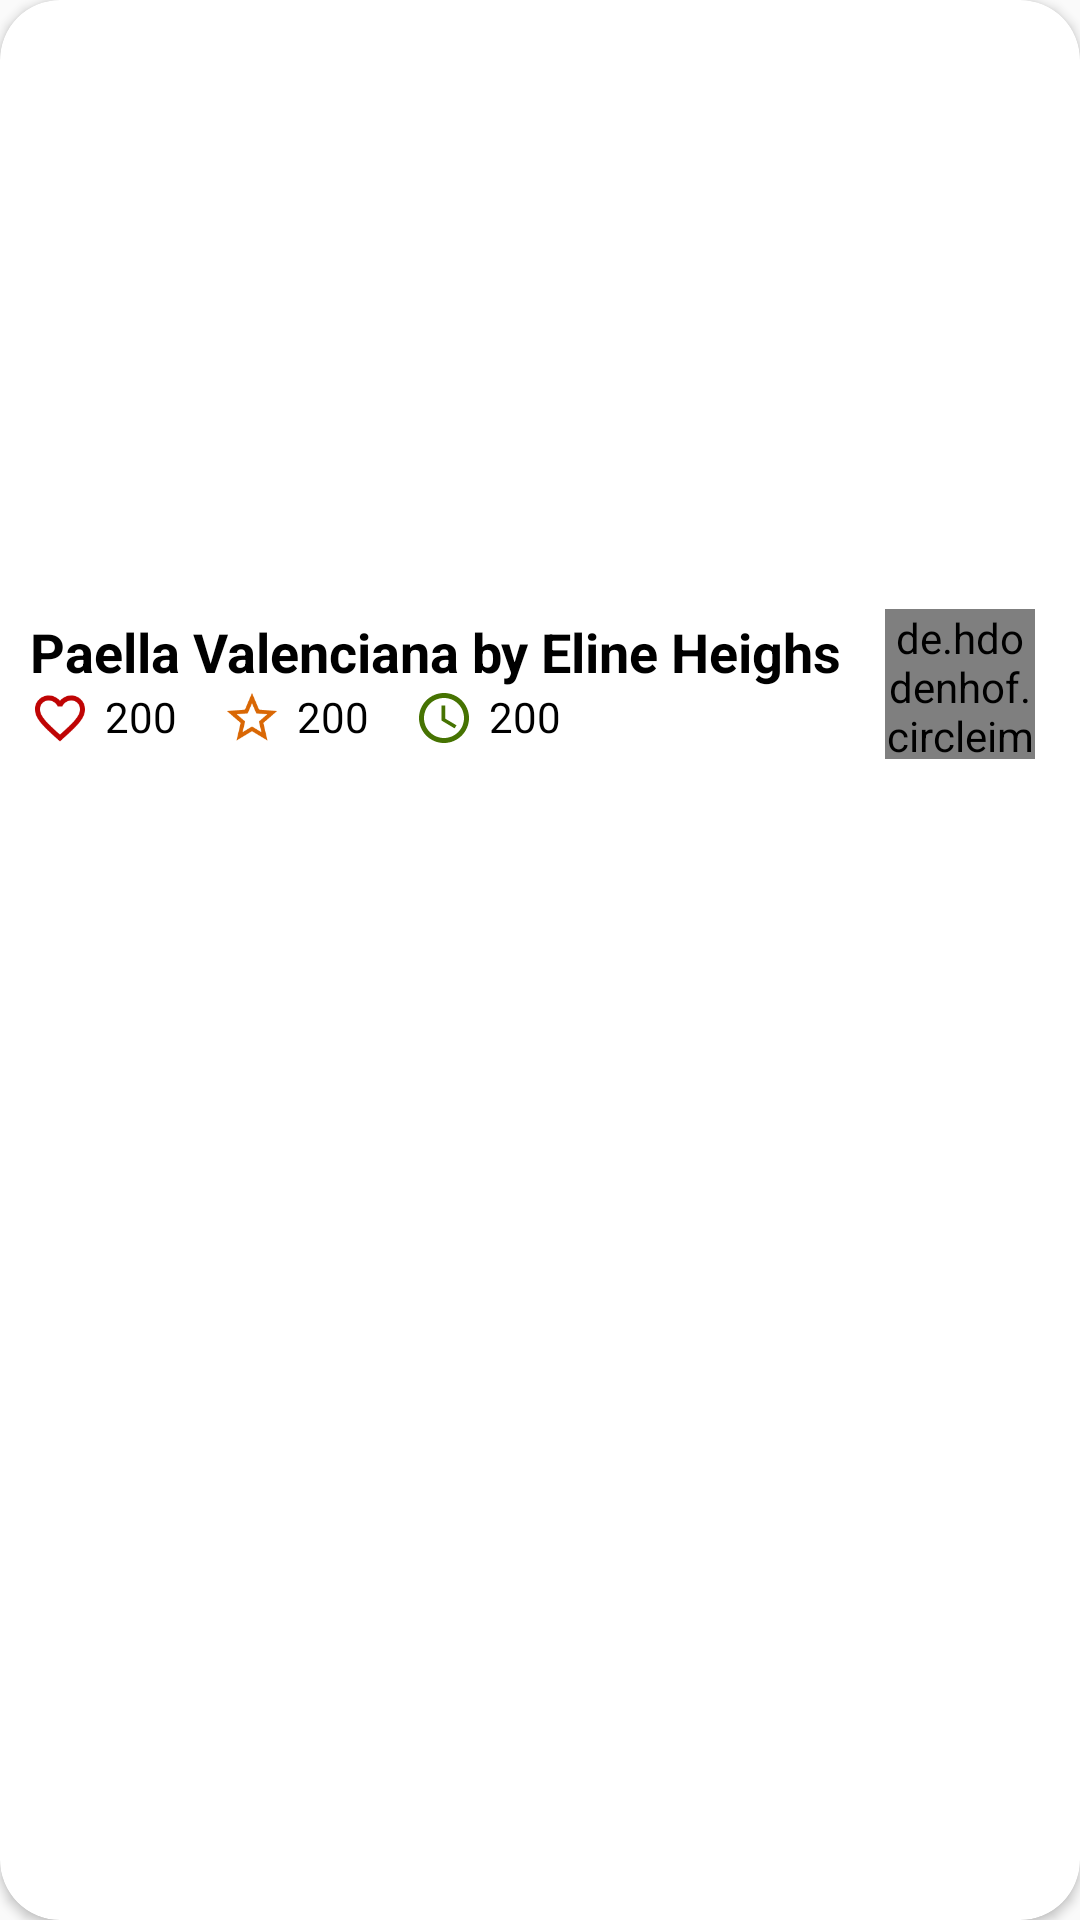

Where icons sit on this 1080px×1920px app screen, as rect(x1, y1, x2, y2):
clock: rect(419, 693, 469, 743)
favcellimg: rect(227, 693, 277, 741)
likeimgcell: rect(35, 695, 85, 741)
